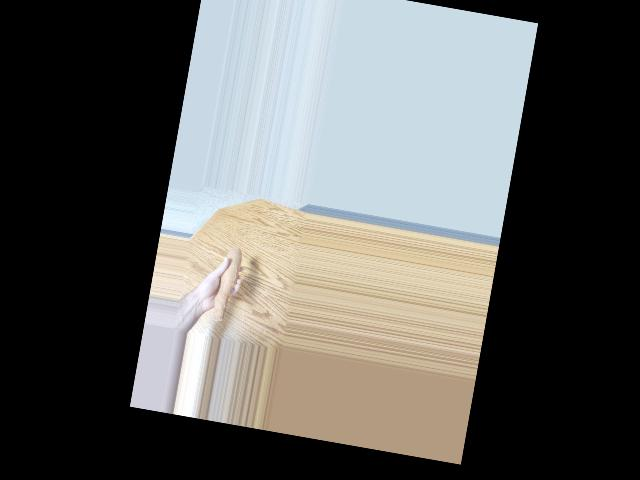sweet_potato: (207, 240, 244, 325)
